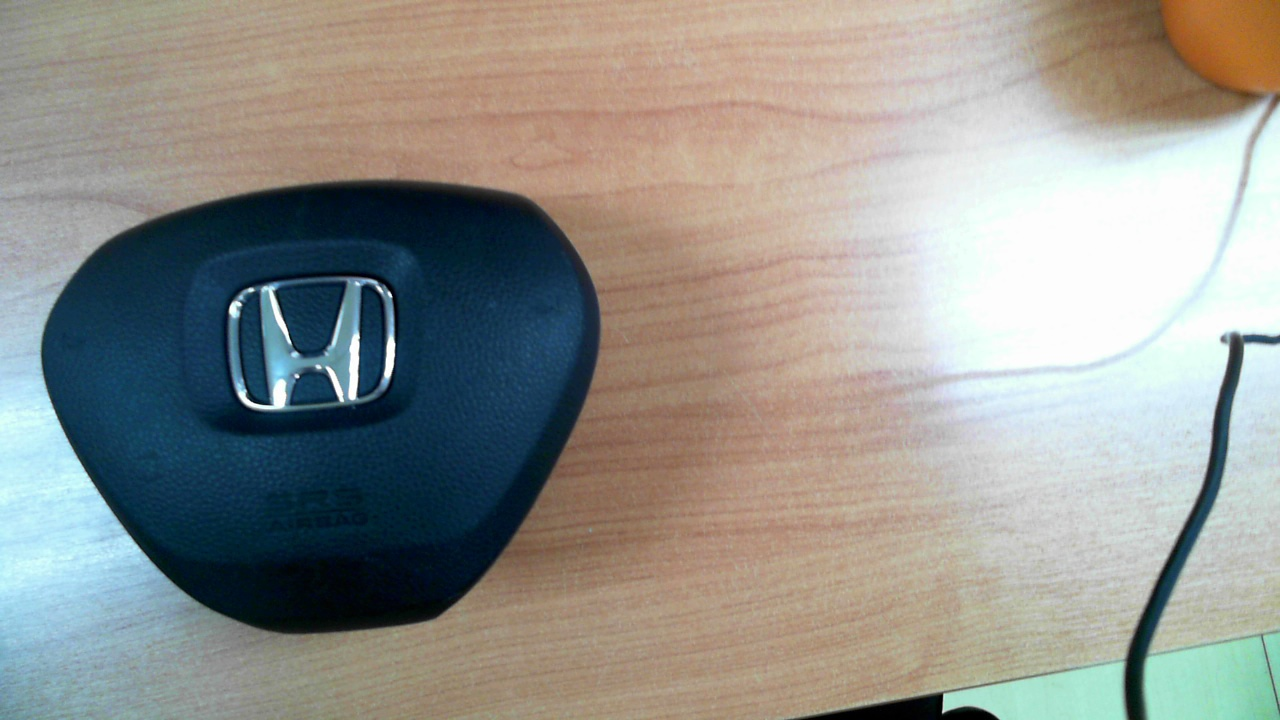Airbag: (40, 179, 601, 635)
Honda: (227, 275, 397, 411)
